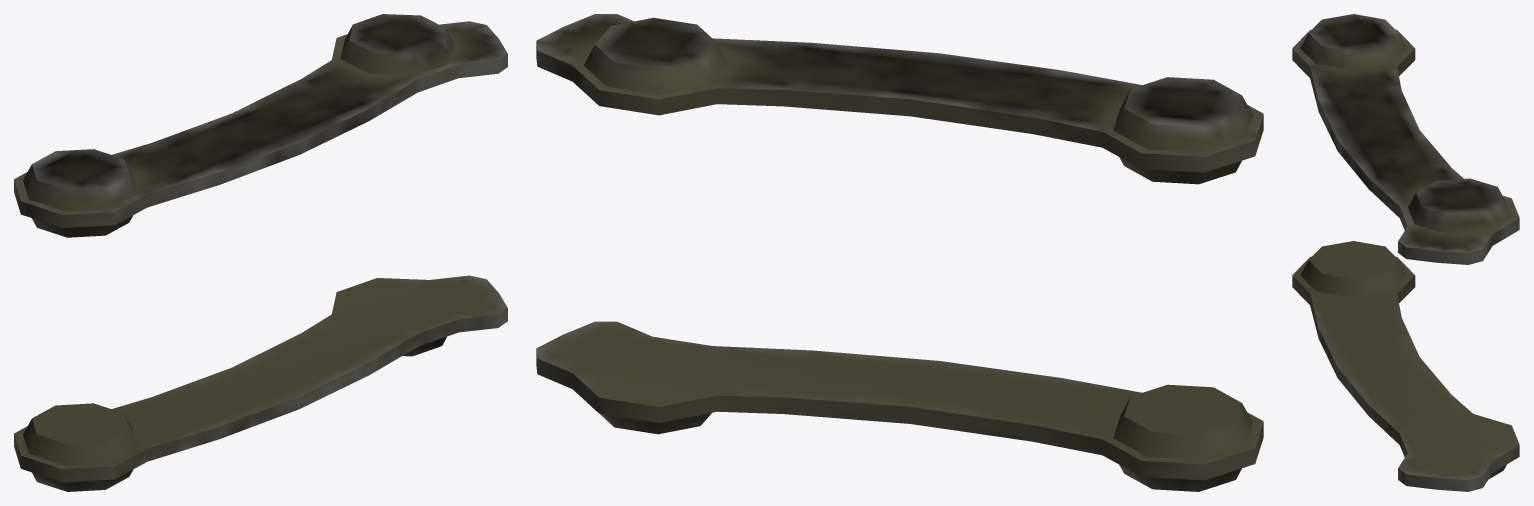
File: bucket_rocker.obj
3 renders of one model, left to right at view 1: azimuth 30°, elevation 25°; view 2: azimuth 150°, elevation 25°; view 3: azimuth 270°, elevation 25°, orthographic. The views are drawn at different scales.
Parts seen in each view (by area): view 1: Shovel_mechanism.002; view 2: Shovel_mechanism.002; view 3: Shovel_mechanism.002.
Part boxes in pixels (left/top/right/bottom): Shovel_mechanism.002: left=14, top=14, right=507, bottom=491; Shovel_mechanism.002: left=536, top=14, right=1263, bottom=491; Shovel_mechanism.002: left=1292, top=14, right=1519, bottom=491.
Size of the model in its own units: 0.3021 by 0.1643 by 0.1258.
Materials: 1 (1 with a texture image).
